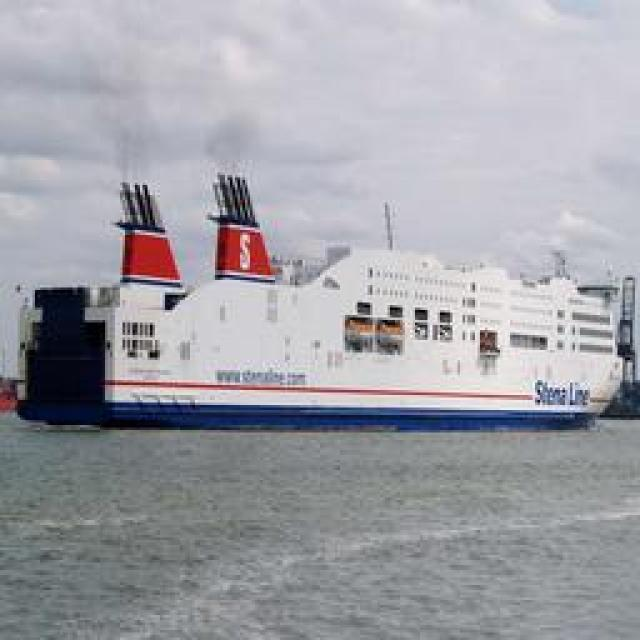ship2: (17, 173, 633, 433)
